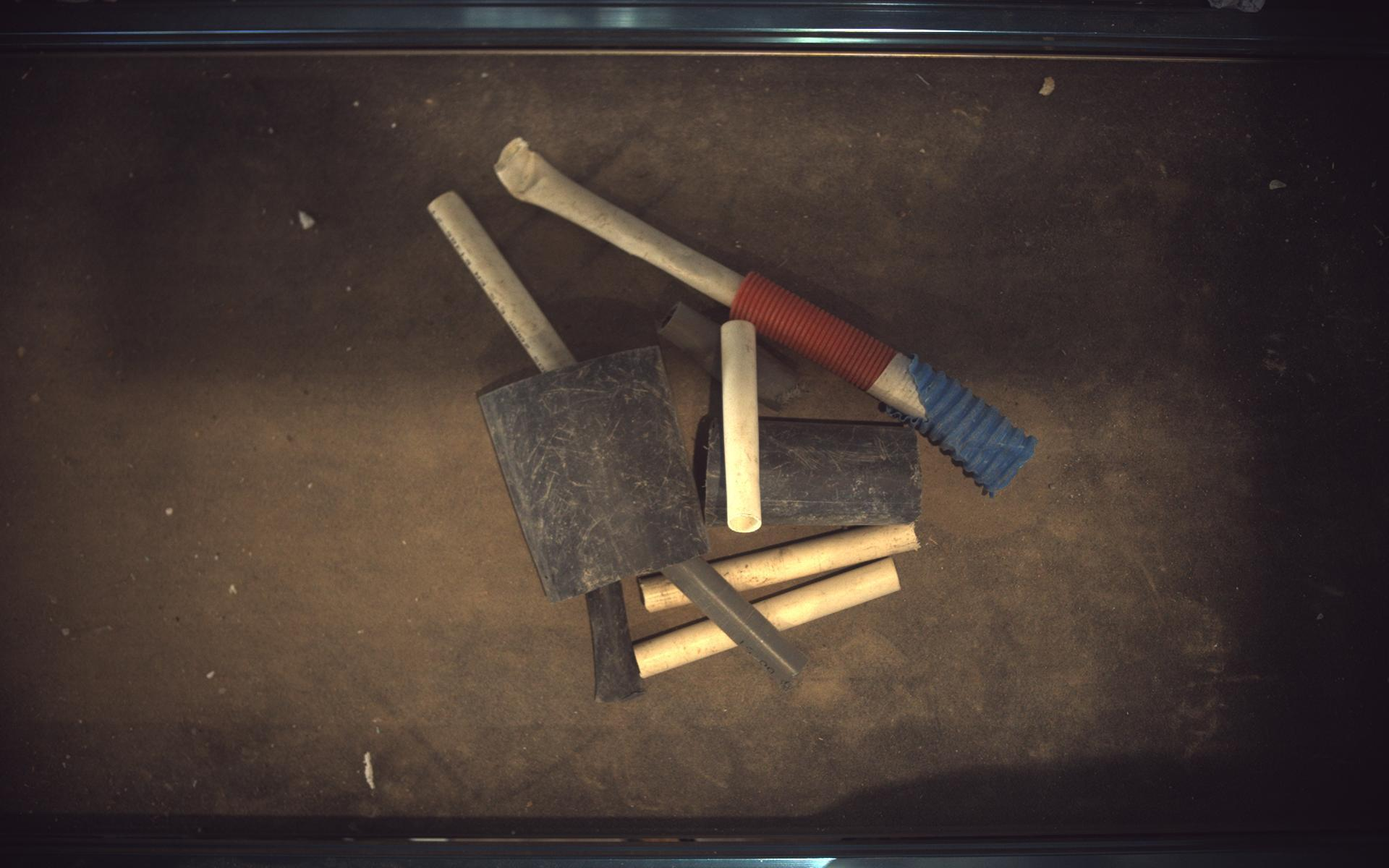pipes: (480, 346, 710, 602), (496, 137, 745, 307), (732, 271, 930, 420), (428, 190, 577, 372), (665, 557, 807, 688), (911, 355, 1040, 497), (760, 417, 924, 526), (714, 524, 922, 592), (754, 558, 902, 631), (722, 320, 763, 533), (586, 582, 644, 703), (635, 621, 737, 678), (658, 301, 721, 380), (759, 347, 802, 410), (705, 417, 728, 526), (640, 574, 691, 613)
